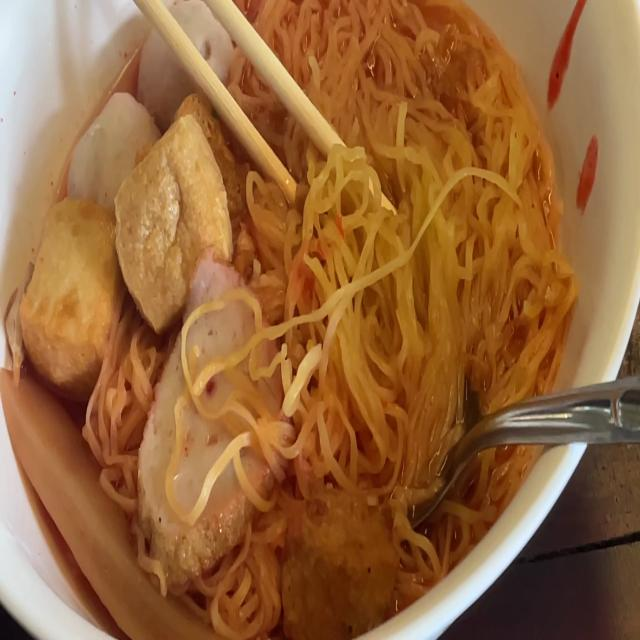crunchy_squid: (0, 373, 216, 640)
egg_noodles: (251, 10, 554, 472)
fish_ball: (66, 86, 164, 225), (130, 0, 234, 126)
fried_fish_balls: (140, 260, 281, 574)
fried_tofu: (124, 98, 242, 298)
noodle: (0, 0, 560, 601)
tofu: (21, 196, 119, 399)
